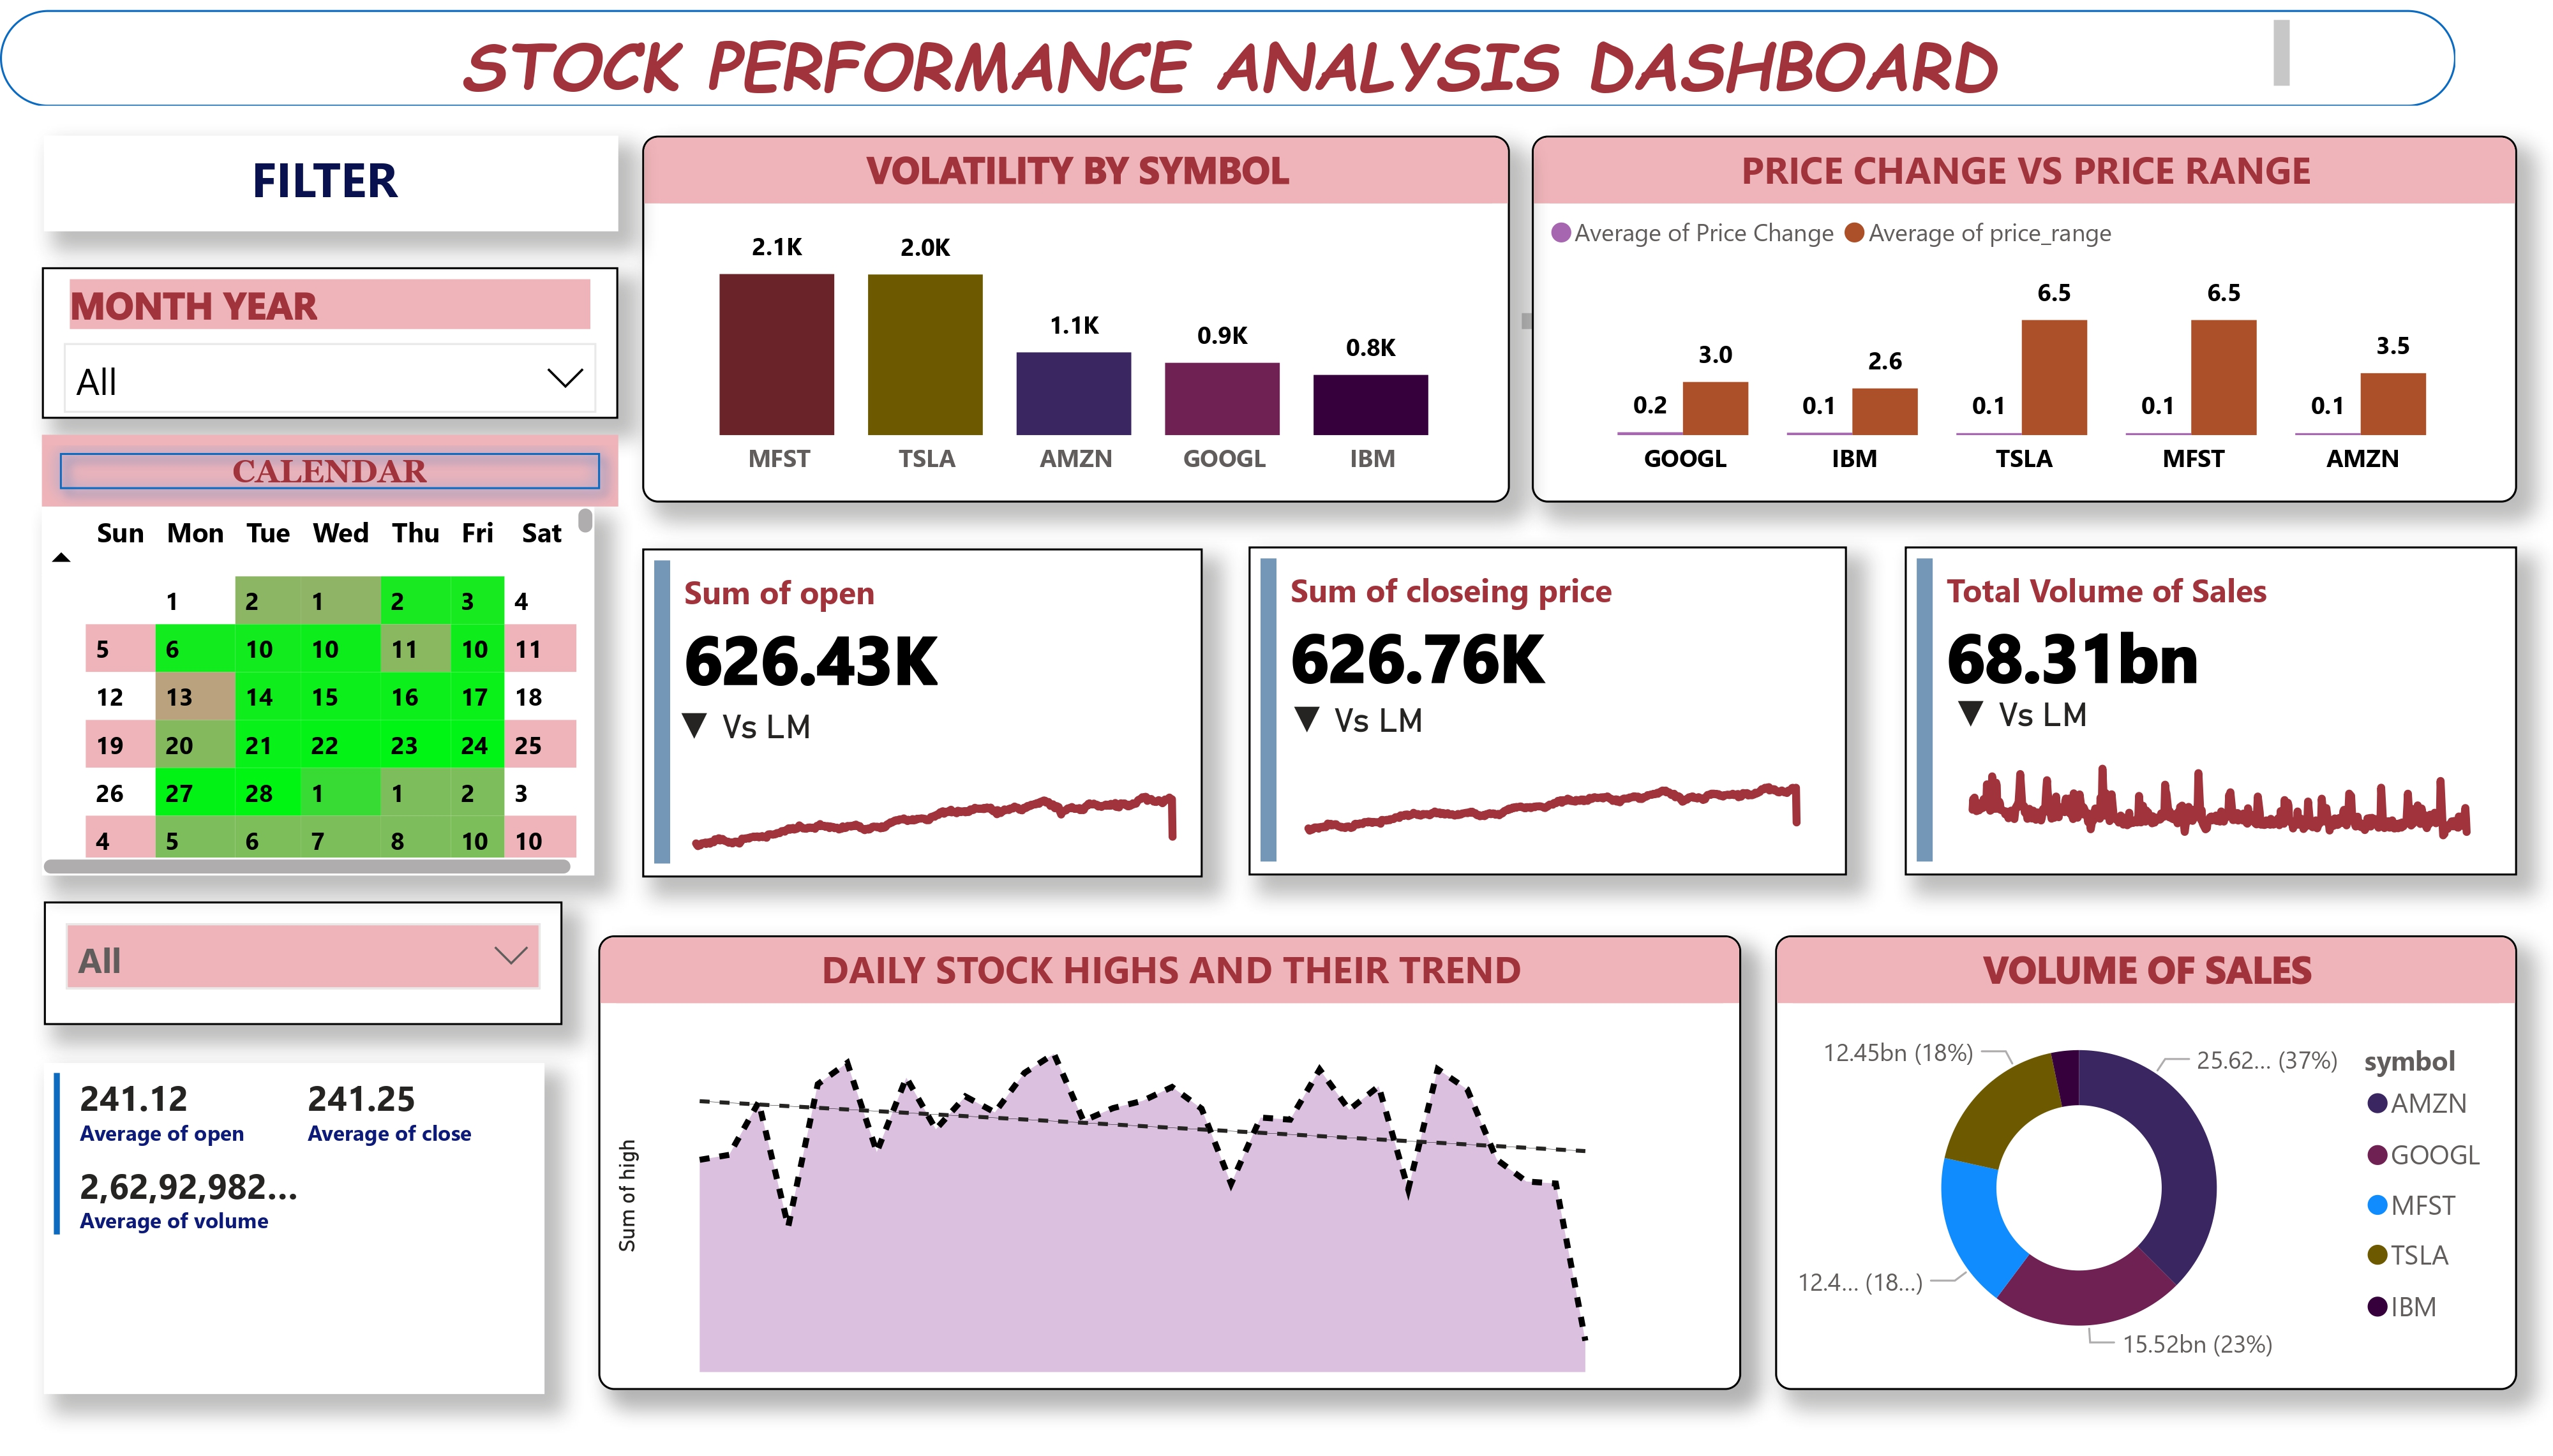

What the dashboard file says about the page in this screenshot:
{"tool":"powerbi","page":{"name":"Page 1","canvas":[1280,720],"ordinal":0},"visuals":[{"type":"textbox","box":[0,146.9,775.8,18.2],"z":0},{"type":"pivotTable","fields":{"Rows":["Date Table.Week number"],"Columns":["Date Table.Day"],"Values":["Min(Date Table.Day number)"]},"box":[21.5,249.3,277.3,184.9],"z":1000},{"type":"slicer","fields":{"Values":["Date Table.Month year"]},"box":[21.5,128.8,288.9,75.9],"z":2000},{"type":"cardVisual","fields":{"Data":["Sum(stock_data1.close)"]},"box":[626,268.9,299.8,164.6],"z":3000},{"type":"lineChart","fields":{"Category":["stock_data1.date"],"Y":["Sum(stock_data1.close)"]},"box":[640.7,345.3,274.8,79.3],"z":4000},{"type":"cardVisual","title":"x","fields":{"Data":["Sum(stock_data1.open)"]},"box":[321.8,270.4,280.7,164.6],"z":5000},{"type":"lineChart","fields":{"Category":["stock_data1.date"],"Y":["Sum(stock_data1.open)"]},"box":[333.6,348.2,268.9,85.2],"z":6000},{"type":"cardVisual","fields":{"Data":["Sum(stock_data1.volume)"]},"box":[955.1,268.9,307.1,164.6],"z":7000},{"type":"lineChart","fields":{"Category":["stock_data1.date"],"Y":["Sum(stock_data1.volume)"]},"box":[974.2,342.4,277.7,82.3],"z":8000},{"type":"clusteredColumnChart","title":"PRICE CHANGE VS PRICE RANGE","fields":{"Y":["Avg(stock_data1.Price Change)","Avg(stock_data1.price_range)"],"Category":["stock_data1.symbol"]},"box":[768.5,63.2,493.7,183.7],"z":9000},{"type":"clusteredColumnChart","title":" VOLATILITY BY SYMBOL","fields":{"Y":["Sum(stock_data1.volatility)"],"Category":["stock_data1.symbol"]},"box":[321.8,63.2,434.9,183.7],"z":10000},{"type":"donutChart","title":"VOLUME OF SALES","fields":{"Category":["stock_data1.symbol"],"Y":["Sum(stock_data1.volume)"]},"box":[890.4,464.3,371.8,227.8],"z":11000},{"type":"areaChart","title":"DAILY STOCK HIGHS AND THEIR TREND","fields":{"Category":["Date Table.Date.Variation.Date Hierarchy.Year","Date Table.Date.Variation.Date Hierarchy.Quarter","Date Table.Date.Variation.Date Hierarchy.Month","Date Table.Date.Variation.Date Hierarchy.Day"],"Y":["Sum(stock_data1.high)"]},"box":[299.8,464.3,573.1,227.8],"z":12000},{"type":"slicer","fields":{"Values":["stock_data1.symbol"]},"box":[22,446.7,260.1,61.7],"z":13000},{"type":"textbox","box":[22,63.2,288,48.5],"z":14000},{"type":"multiRowCard","fields":{"Values":["Avg(stock_data1.open)","Avg(stock_data1.close)","Avg(stock_data1.volume)"]},"box":[22,527.5,251.3,166],"z":15000},{"type":"shape","box":[21.5,212.9,288.9,36.3],"z":17000},{"type":"shape","box":[0,0,1231.3,48.5],"z":18000},{"type":"textbox","box":[101.4,0,1052.1,48.5],"z":19000}]}

Visuals, with their boxes in screenshot pixels (x1, y1, x2, y2), scaled from the page's 1280x720 canvas onto the 2553x1456 screenshot:
textbox: bbox=(0, 297, 1547, 334)
pivotTable - Date Table.Week number x Date Table.Day: bbox=(43, 504, 596, 878)
slicer - Date Table.Month year: bbox=(43, 260, 619, 414)
cardVisual - Sum(stock_data1.close): bbox=(1248, 544, 1846, 877)
lineChart - stock_data1.date x Sum(stock_data1.close): bbox=(1278, 698, 1826, 859)
"x" cardVisual: bbox=(642, 547, 1202, 880)
lineChart - stock_data1.date x Sum(stock_data1.open): bbox=(665, 704, 1202, 877)
cardVisual - Sum(stock_data1.volume): bbox=(1905, 544, 2517, 877)
lineChart - stock_data1.date x Sum(stock_data1.volume): bbox=(1943, 692, 2497, 859)
"PRICE CHANGE VS PRICE RANGE" clusteredColumnChart: bbox=(1533, 128, 2517, 500)
" VOLATILITY BY SYMBOL" clusteredColumnChart: bbox=(642, 128, 1509, 500)
"VOLUME OF SALES" donutChart: bbox=(1776, 939, 2517, 1400)
"DAILY STOCK HIGHS AND THEIR TREND" areaChart: bbox=(598, 939, 1741, 1400)
slicer - stock_data1.symbol: bbox=(44, 903, 563, 1028)
textbox: bbox=(44, 128, 618, 226)
multiRowCard - Avg(stock_data1.open) x Avg(stock_data1.close): bbox=(44, 1067, 545, 1402)
shape: bbox=(43, 431, 619, 504)
shape: bbox=(0, 0, 2456, 98)
textbox: bbox=(202, 0, 2301, 98)
